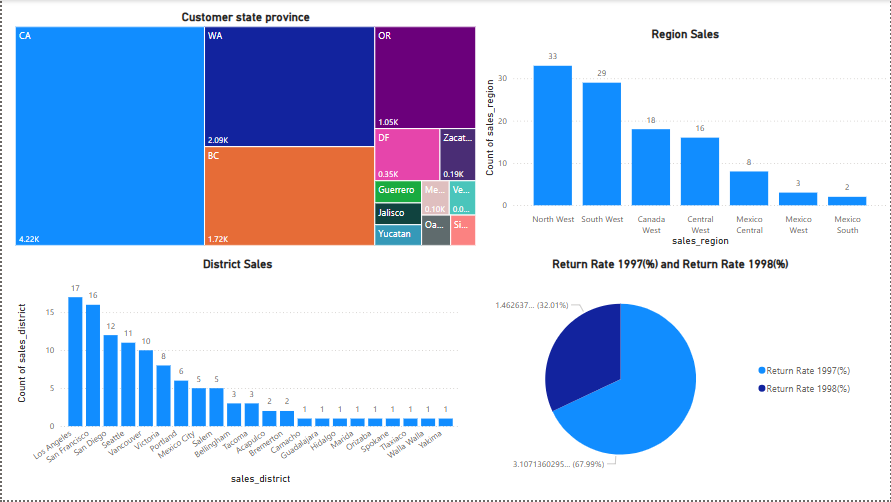

The dashboard page shown, as its layout file describes it:
{"tool":"powerbi","page":{"name":"Page 2","canvas":[1280,720],"ordinal":1},"visuals":[{"type":"treemap","title":"Customer state province","fields":{"Group":["Customers.customer_state_province"],"Values":["CountNonNull(Customers.customer_state_province)"]},"box":[15.1,15.1,673.6,344.4],"z":0},{"type":"columnChart","title":"District Sales","fields":{"Category":["Regions.sales_district"],"Y":["CountNonNull(Regions.sales_district)"]},"box":[15.1,369.6,650.1,332.6],"z":1},{"type":"columnChart","title":"Region Sales","fields":{"Category":["Regions.sales_region"],"Y":["CountNonNull(Regions.sales_region)"]},"box":[688.7,38.6,591.3,320.8],"z":2},{"type":"pieChart","fields":{"Y":["Customers.Return Rate 1997(%)","Customers.Return Rate 1998(%)"]},"box":[688.7,369.6,547.6,332.6],"z":3}]}

Visuals, with their boxes in screenshot pixels (x1, y1, x2, y2), scaled from the page's 1280x720 canvas onto the 891x502 screenshot:
"Customer state province" treemap: x1=11, y1=11, x2=479, y2=251
"District Sales" columnChart: x1=11, y1=258, x2=463, y2=490
"Region Sales" columnChart: x1=479, y1=27, x2=890, y2=251
pieChart - Customers.Return Rate 1997(%) x Customers.Return Rate 1998(%): x1=479, y1=258, x2=861, y2=490
